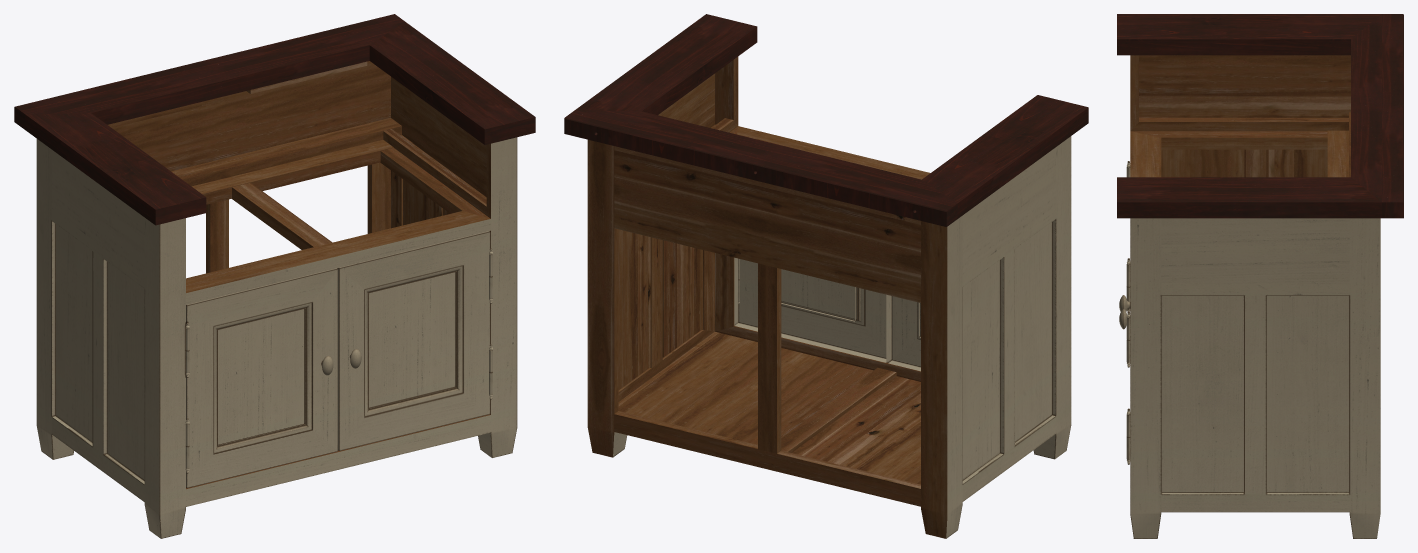
Rendered from example55.gltf.
3 views of the same model, side by side, from view 1: azimuth 30°, elevation 25°; view 2: azimuth 150°, elevation 25°; view 3: azimuth 270°, elevation 25° (orthographic).
Parts seen in each view (by area): view 1: Object_2, Object_3, Object_4; view 2: Object_3, Object_2, Object_4; view 3: Object_2, Object_4, Object_3.
Boxes of the visible parts, <box> form: Object_2: <box>36,137,517,538</box>; Object_3: <box>108,61,490,489</box>; Object_4: <box>14,14,535,225</box>; Object_3: <box>587,56,947,538</box>; Object_2: <box>613,136,1071,538</box>; Object_4: <box>564,14,1088,226</box>; Object_2: <box>1119,161,1380,538</box>; Object_4: <box>1117,14,1403,218</box>; Object_3: <box>1130,55,1350,177</box>.
Bounding box in the file's own units: 101 × 86 × 65.
Materials: 3 (3 with a texture image).
